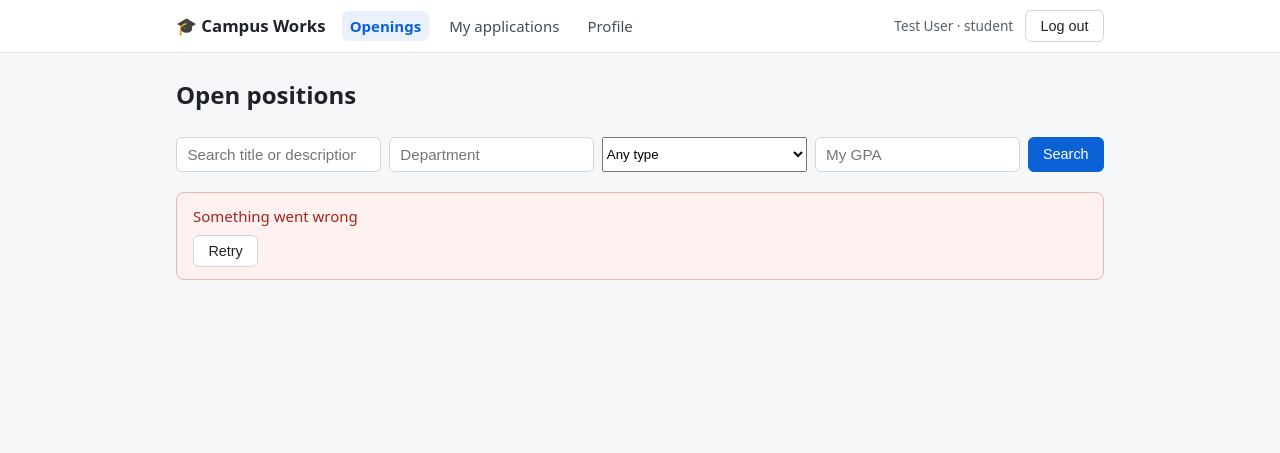
Test: shows an error with retry and recovers
The width and height of the screenshot is (1280, 453).
expect the message shows "Something went wrong": met, box [193,206,358,226]
Click the button "Retry". click: click(226, 251)
box: [193,235,258,268]
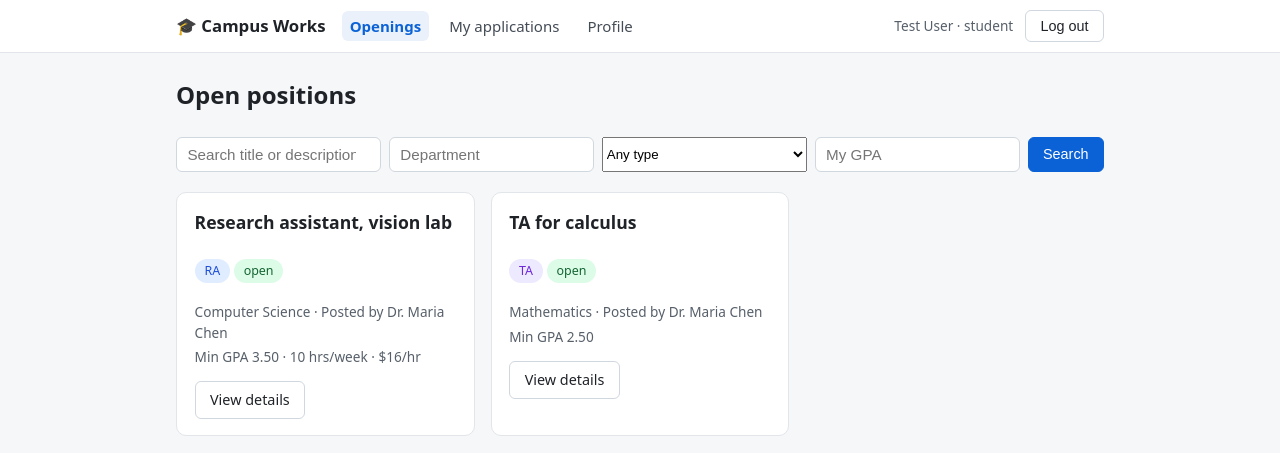
expect the heading "TA for calculus" is shown: met, box [509,210,637,234]
